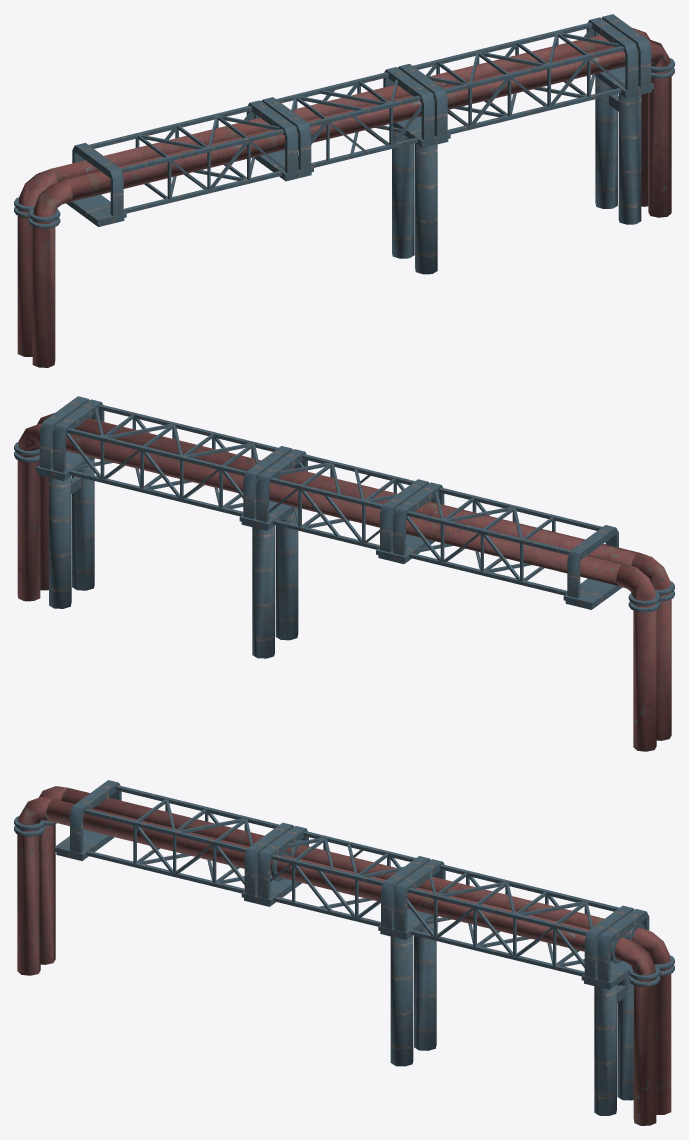
The model's file is Prop_Jz002Gcgd001.glb.
3 renders of one model, top to bottom at view 1: azimuth 30°, elevation 25°; view 2: azimuth 150°, elevation 25°; view 3: azimuth 330°, elevation 25°, orthographic.
Visible parts, largest first — view 1: xiutz_jz002_gcgd001; view 2: xiutz_jz002_gcgd001; view 3: xiutz_jz002_gcgd001.
Part boxes in pixels (x1,y1,x2,y2): xiutz_jz002_gcgd001: (14,14,674,367); xiutz_jz002_gcgd001: (14,396,674,751); xiutz_jz002_gcgd001: (14,780,674,1125).
Bounding box in the file's own units: 40.97 × 11.38 × 4.68.
1 material, 1 textured.
